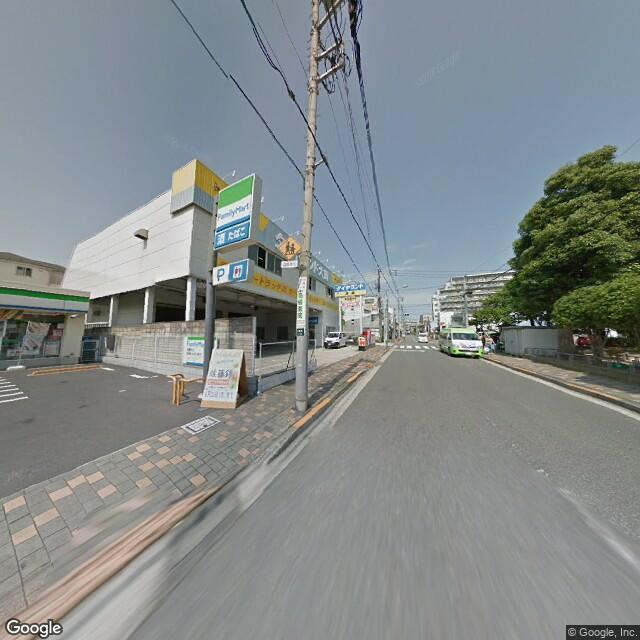family_mart: (214, 171, 256, 238), (1, 286, 90, 317)
